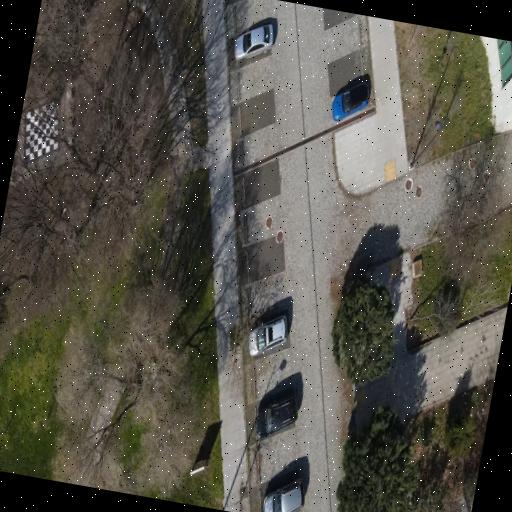car: (256, 391, 297, 438), (332, 80, 371, 121), (249, 316, 287, 356), (235, 24, 273, 60), (263, 479, 303, 511)
